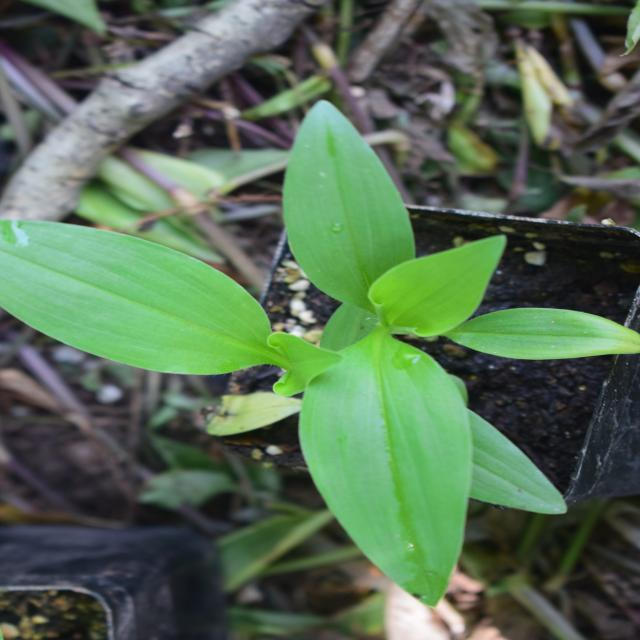Common Dayflower: (76, 249, 520, 531)
